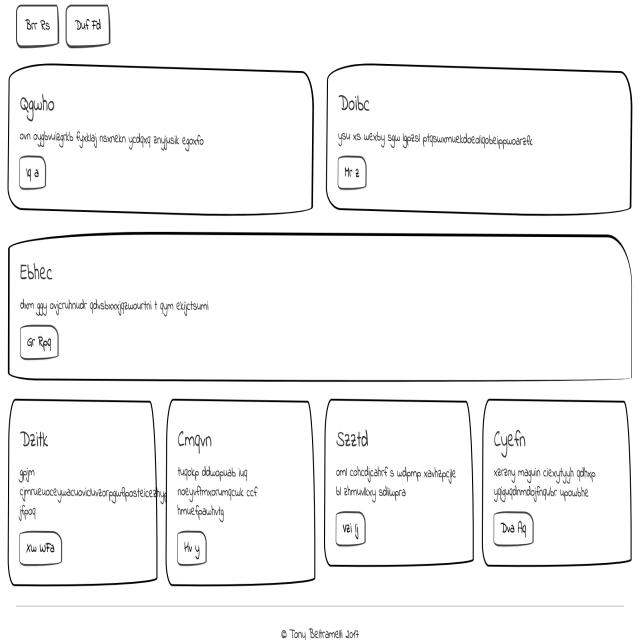Button: (490, 508, 536, 549), (17, 529, 63, 568), (18, 324, 62, 362), (334, 148, 368, 196), (17, 150, 48, 195), (174, 528, 208, 566), (332, 511, 368, 546)
Card: (7, 226, 633, 387), (7, 60, 317, 221), (326, 66, 632, 219), (164, 391, 316, 586), (6, 393, 158, 575), (479, 396, 633, 570), (322, 393, 474, 568)
Footer: (0, 602, 640, 640)
Heading 6: (488, 420, 528, 460), (20, 255, 58, 289), (19, 90, 60, 120), (334, 90, 375, 118), (177, 424, 213, 455), (336, 430, 372, 454), (18, 425, 51, 451)
Navigation Bar: (13, 1, 113, 52)
Paragraph: (17, 464, 154, 525), (18, 127, 206, 158), (330, 125, 536, 153), (174, 459, 258, 523), (331, 461, 456, 503), (492, 459, 602, 503)
